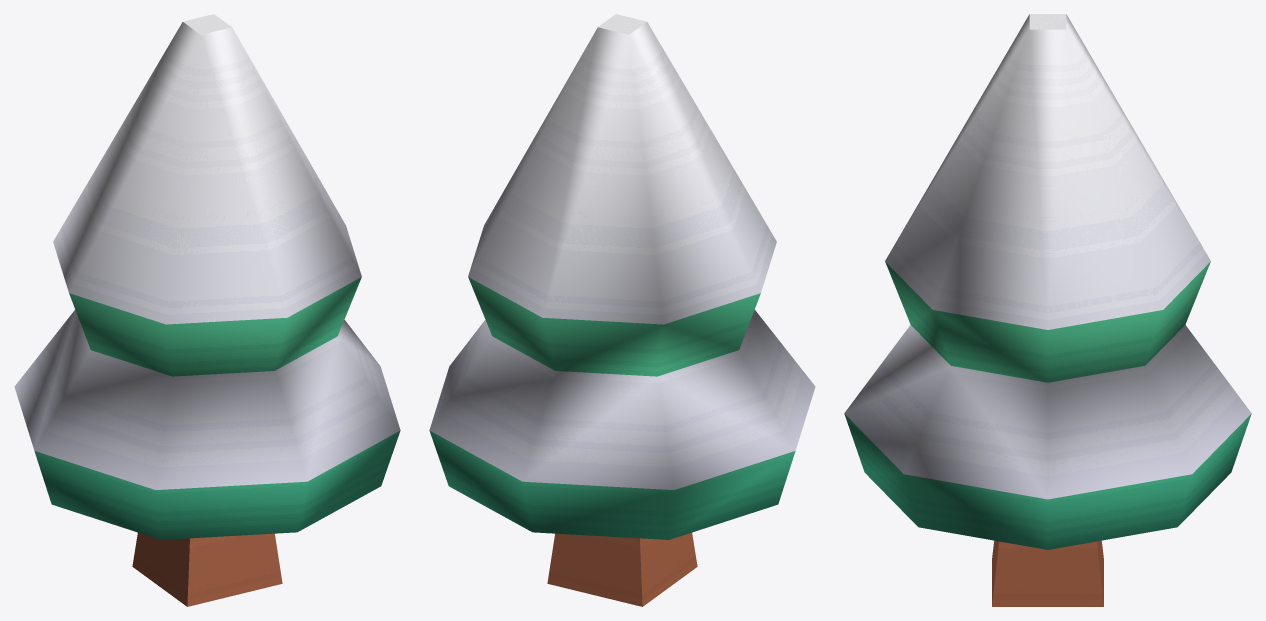
File: snow-detail-tree.glb
3 views of the same model, side by side, from view 1: azimuth 30°, elevation 25°; view 2: azimuth 150°, elevation 25°; view 3: azimuth 270°, elevation 25° (orthographic).
Parts seen in each view (by area): view 1: snow-detail-tree; view 2: snow-detail-tree; view 3: snow-detail-tree.
Part boxes in pixels (x1=…): snow-detail-tree: x1=14, y1=14, x2=400, y2=606; snow-detail-tree: x1=429, y1=14, x2=815, y2=606; snow-detail-tree: x1=844, y1=14, x2=1251, y2=606.
Bounding box in the file's own units: 0.35 × 0.532 × 0.35.
Materials: 1 (1 with a texture image).
